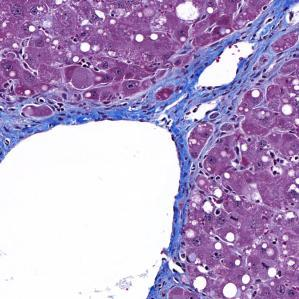fibrosis: (139, 74, 243, 135), (2, 90, 109, 128), (235, 20, 299, 72)
